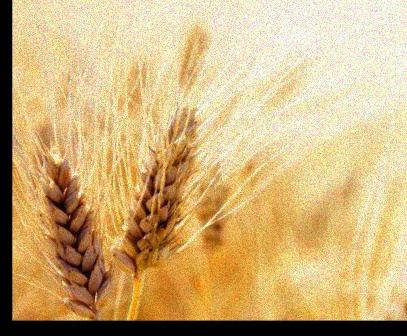wheat: (122, 46, 231, 297), (18, 114, 115, 315)
